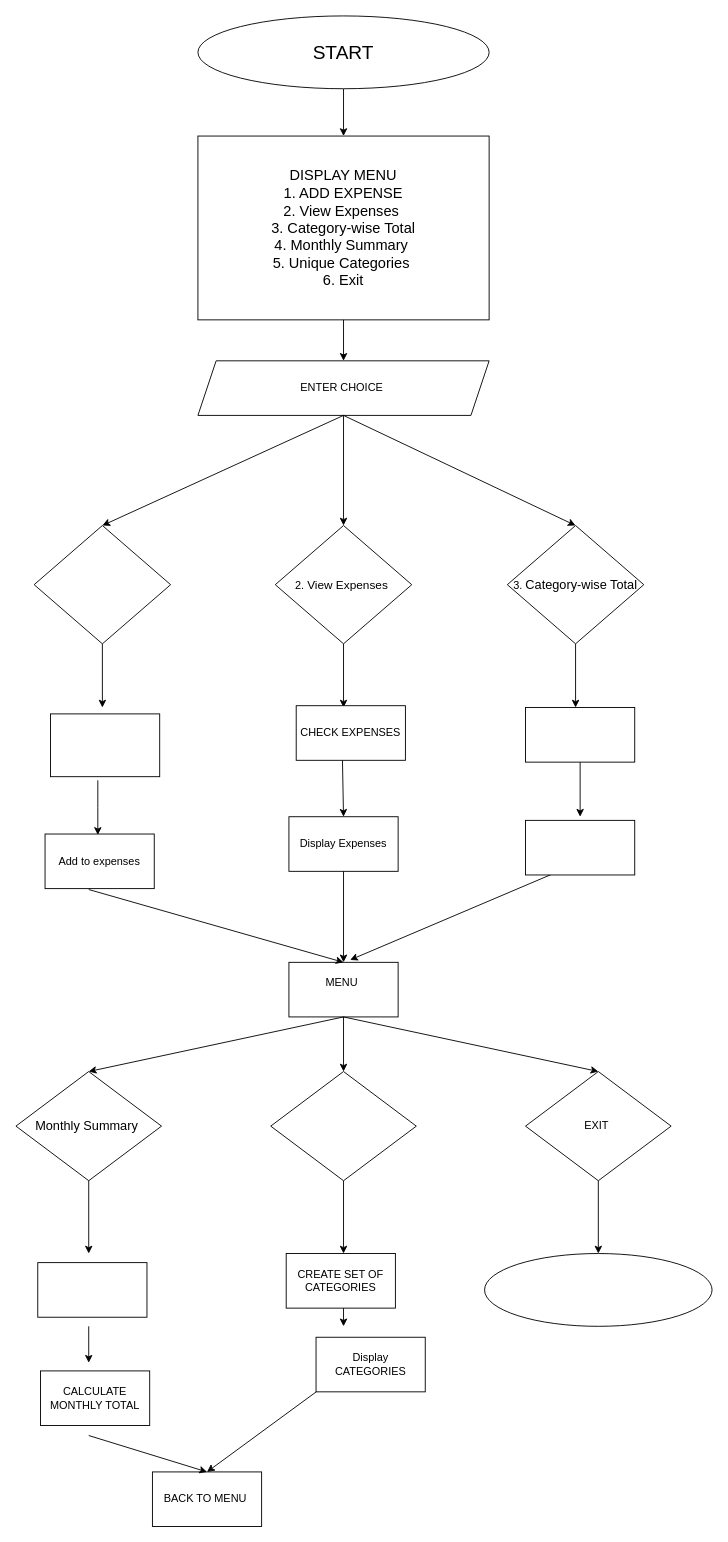
Some shapes in this 728 by 1542 pixel diagram are drawn without their labels. The shapes that lost their labels are listed below. From the top down, each one's centre as x and y in pixels, then its label:
the point at 102,584: 1. Add Expense
the point at 105,745: Enter Date Enter Category Enter amount
the point at 580,734: Calculate Total for each category
the point at 580,847: Display Category Total
the point at 343,1126: Unique Categories
the point at 92,1289: ENTER DATE AND MONTH
the point at 598,1289: END
